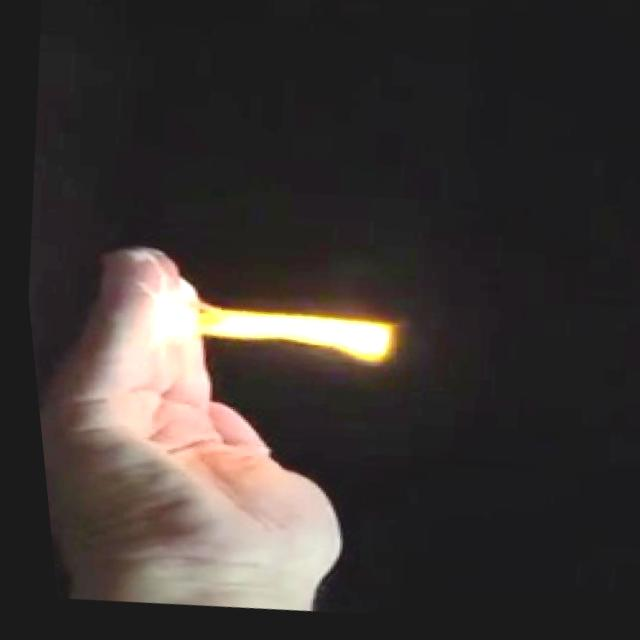Fire: (134, 271, 406, 397)
